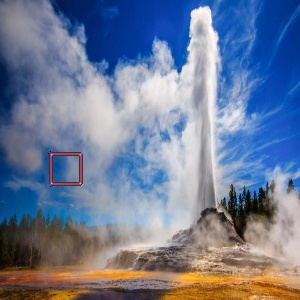square: (49, 152, 84, 185)
